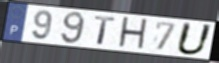7: (153, 20, 178, 52)
9: (59, 11, 87, 45), (31, 10, 53, 41)
H: (116, 16, 150, 52)
T: (93, 15, 117, 46)
U: (174, 21, 215, 56)
